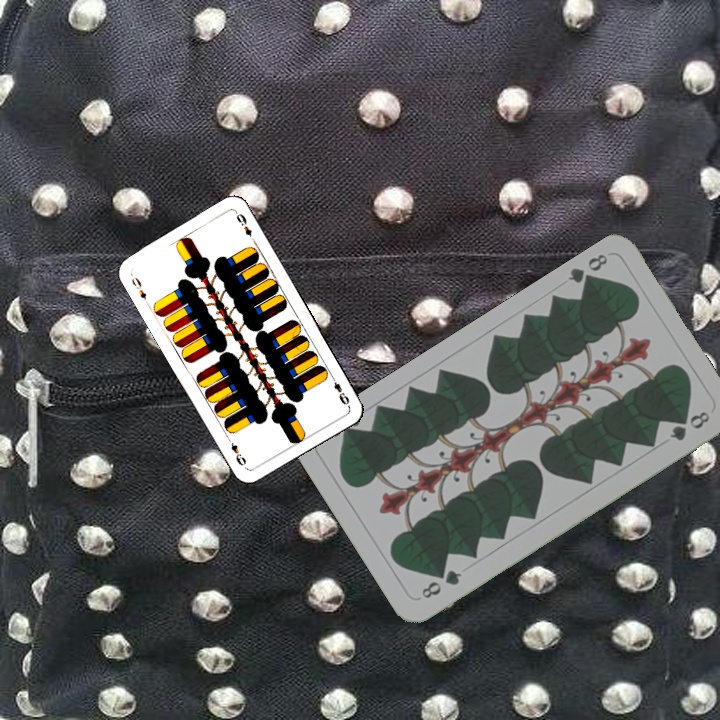E9: (127, 270, 152, 307), (327, 372, 352, 407)
G8: (563, 249, 611, 291), (417, 565, 465, 602)
